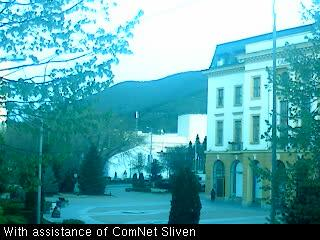person: (211, 188, 216, 202)
